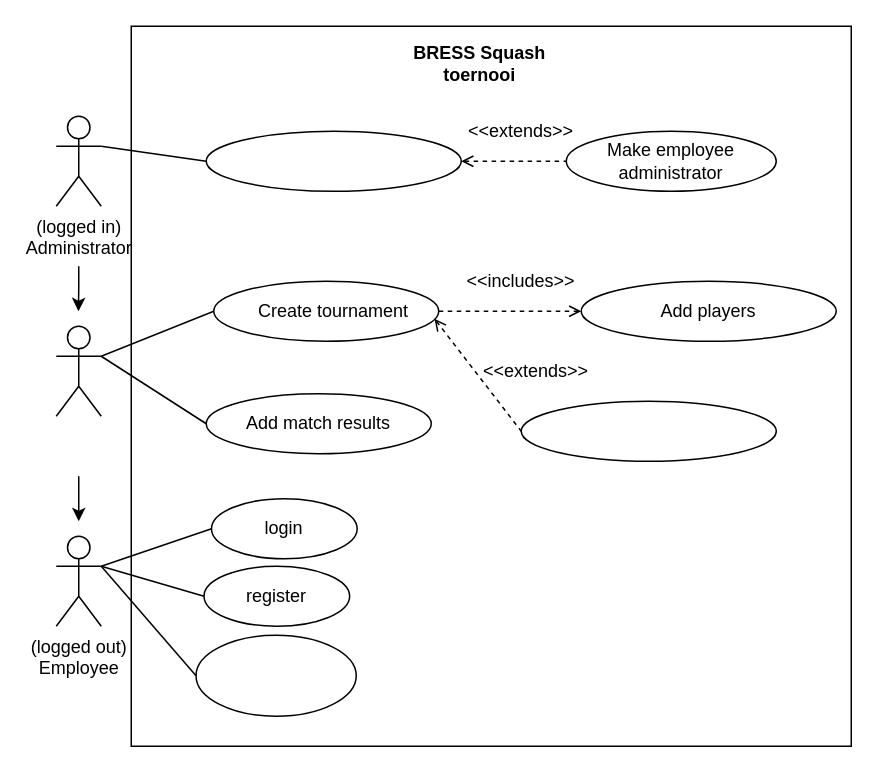
Some shapes in this 878 by 773 pixel diagram are drawn without their labels. The shapes that lost their labels are listed below. From the top down, each one's box as (x1, y1, x2, y2) in pixels, then its label:
(205, 130, 461, 191): Add employee
(55, 325, 101, 416): (logged in) Employee
(520, 400, 776, 461): Edit players
(195, 634, 356, 716): See tournament overview
